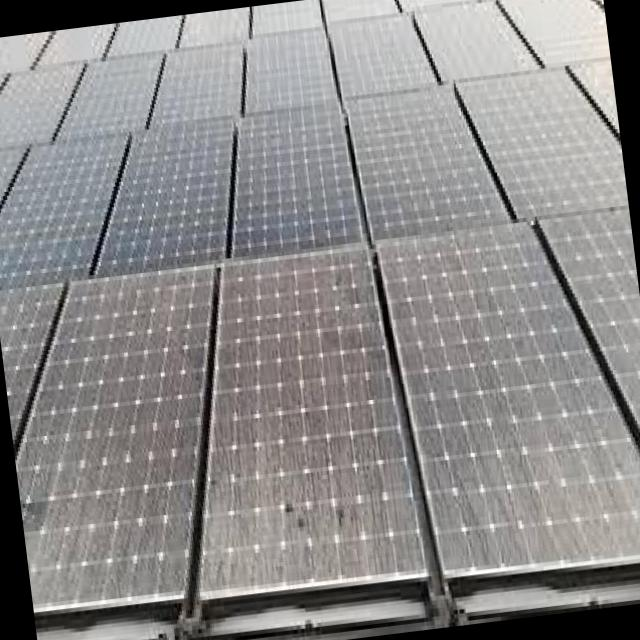faulty: (378, 219, 640, 573), (198, 246, 423, 594), (14, 262, 213, 613), (340, 83, 508, 245), (456, 68, 627, 221), (85, 111, 231, 281), (534, 206, 640, 433), (234, 101, 357, 262), (0, 143, 127, 283), (0, 279, 65, 445)
